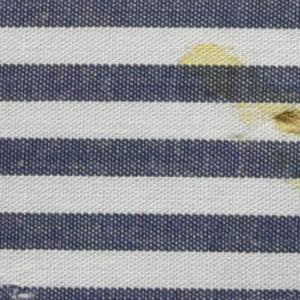Oil Stain: (172, 42, 300, 193)
